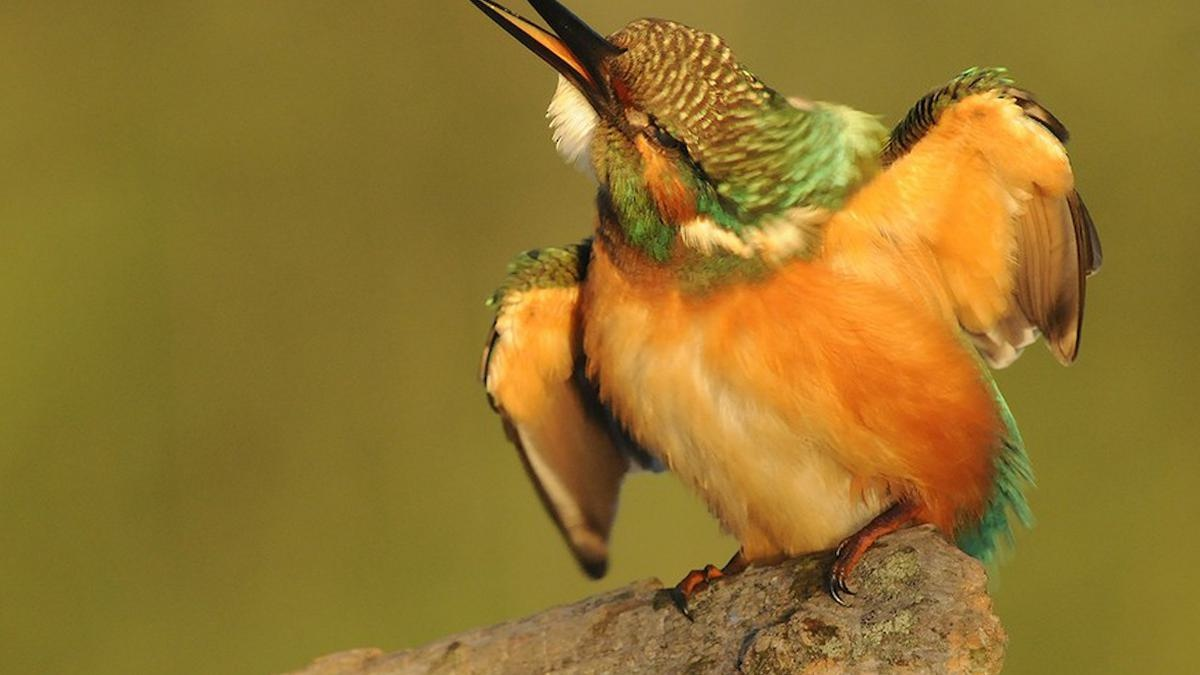kingfisher: (450, 2, 1096, 615)
